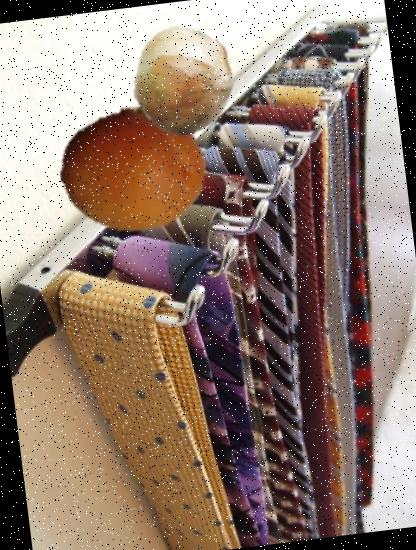Apricot: (51, 87, 215, 251)
Onion: (122, 19, 243, 140)
